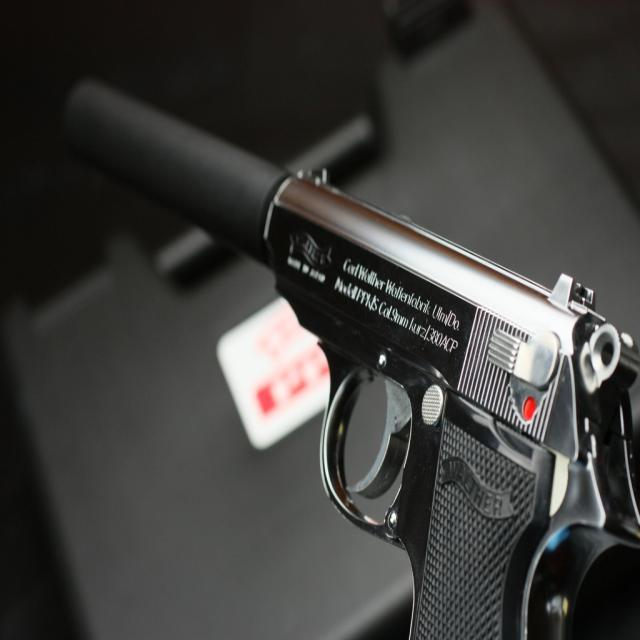Gun: (66, 81, 640, 639)
